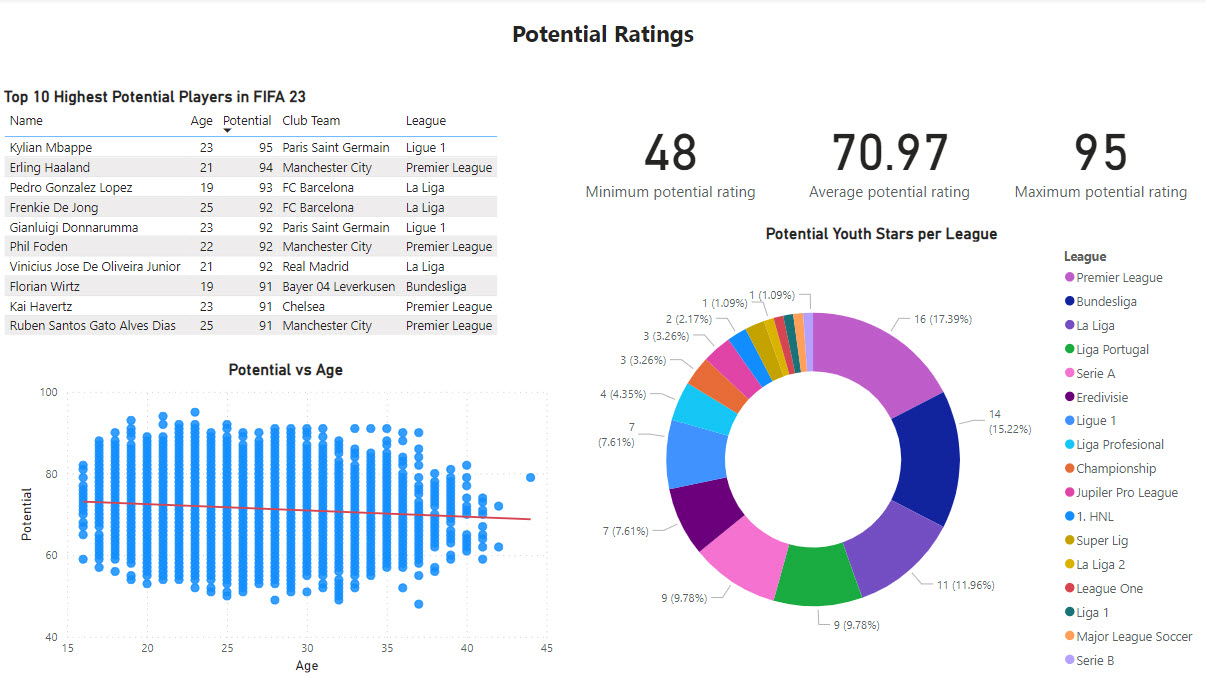

Layout of this report page (visuals, bound fields, positions):
{"tool":"powerbi","page":{"name":"Potential","canvas":[1280,720],"ordinal":2},"visuals":[{"type":"tableEx","title":"Top 10 Highest Potential Players in FIFA 23","fields":{"Values":["top_10_potential.name","top_10_potential.age","top_10_potential.potential","top_10_potential.club_team","top_10_potential.league_name"]},"box":[0,96,592,288],"z":0},{"type":"scatterChart","title":"Potential vs Age","fields":{"X":["age_vs_potential.age"],"Y":["age_vs_potential.potential"]},"box":[16,384,576,336],"z":1000},{"type":"donutChart","title":"Potential Youth Stars per League","fields":{"Category":["pot-stars_per_league.league_name"],"Y":["pot-stars_per_league.num_pot_stars"]},"box":[592,240,688,480],"z":2000},{"type":"textbox","box":[528,16,224,48],"z":3000},{"type":"card","fields":{"Values":["age_vs_potential.potential"]},"box":[592,96,240,144],"z":4000},{"type":"card","fields":{"Values":["age_vs_potential.potential"]},"box":[832,96,224,144],"z":5000},{"type":"card","fields":{"Values":["age_vs_potential.potential"]},"box":[1056,96,224,144],"z":6000}]}

Visuals, with their boxes in screenshot pixels (x1, y1, x2, y2), scaled from the page's 1280x720 canvas onto the 1206x677 screenshot:
"Top 10 Highest Potential Players in FIFA 23" tableEx: <bbox>0, 90, 558, 361</bbox>
"Potential vs Age" scatterChart: <bbox>15, 361, 558, 676</bbox>
"Potential Youth Stars per League" donutChart: <bbox>558, 226, 1205, 676</bbox>
textbox: <bbox>497, 15, 709, 60</bbox>
card - age_vs_potential.potential: <bbox>558, 90, 784, 226</bbox>
card - age_vs_potential.potential: <bbox>784, 90, 995, 226</bbox>
card - age_vs_potential.potential: <bbox>995, 90, 1205, 226</bbox>
